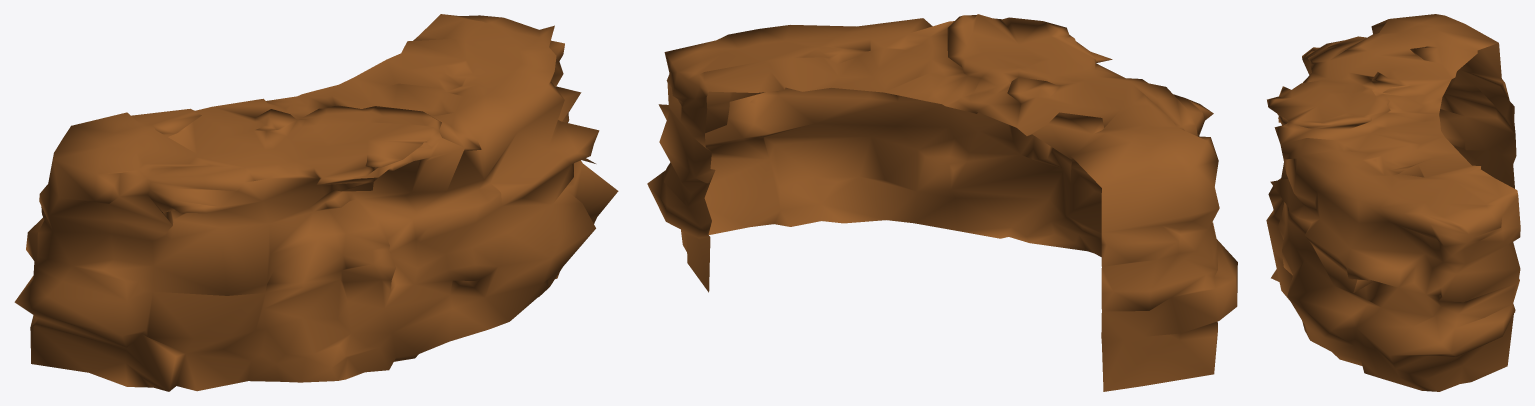
File: MSH_Rocks_Cliff_32_e.FBX
3 renders of one model, left to right at view 1: azimuth 30°, elevation 25°; view 2: azimuth 150°, elevation 25°; view 3: azimuth 270°, elevation 25°, orthographic. The views are drawn at different scales.
Parts seen in each view (by area): view 1: MESH_LOD3; view 2: MESH_LOD3; view 3: MESH_LOD3.
Boxes of the visible parts, x1=… form: MESH_LOD3: x1=14, y1=14, x2=618, y2=391; MESH_LOD3: x1=647, y1=14, x2=1237, y2=391; MESH_LOD3: x1=1266, y1=14, x2=1520, y2=391.
Bounding box in the file's own units: 351 × 131 × 160.
